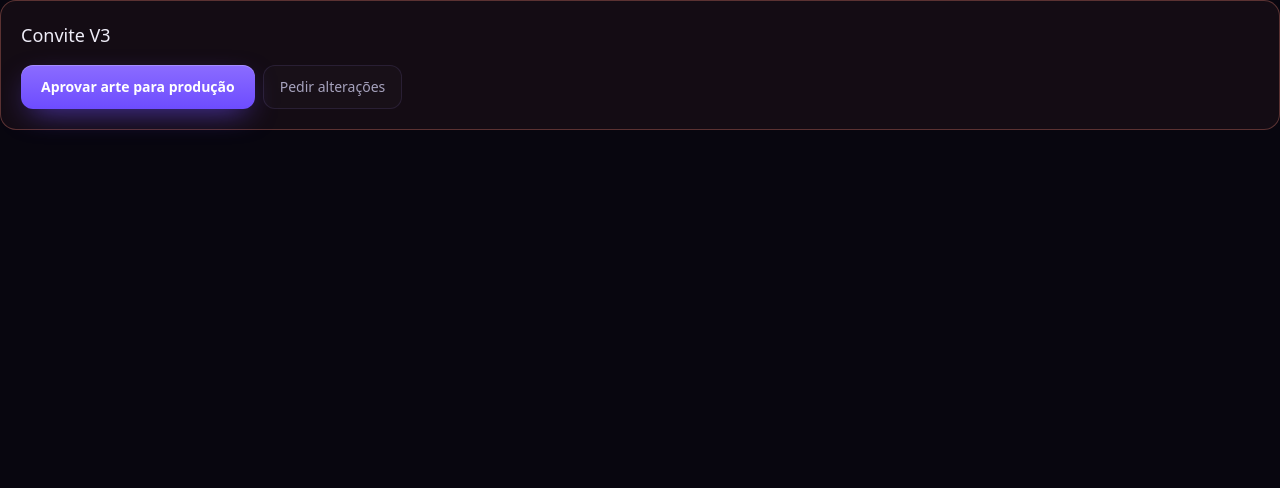
ApprovalCard — arte para produção › sem impressão, o aviso fala da arte final
Click the button "Aprovar arte para produção".
click(138, 87)  # box [21,65,255,109]
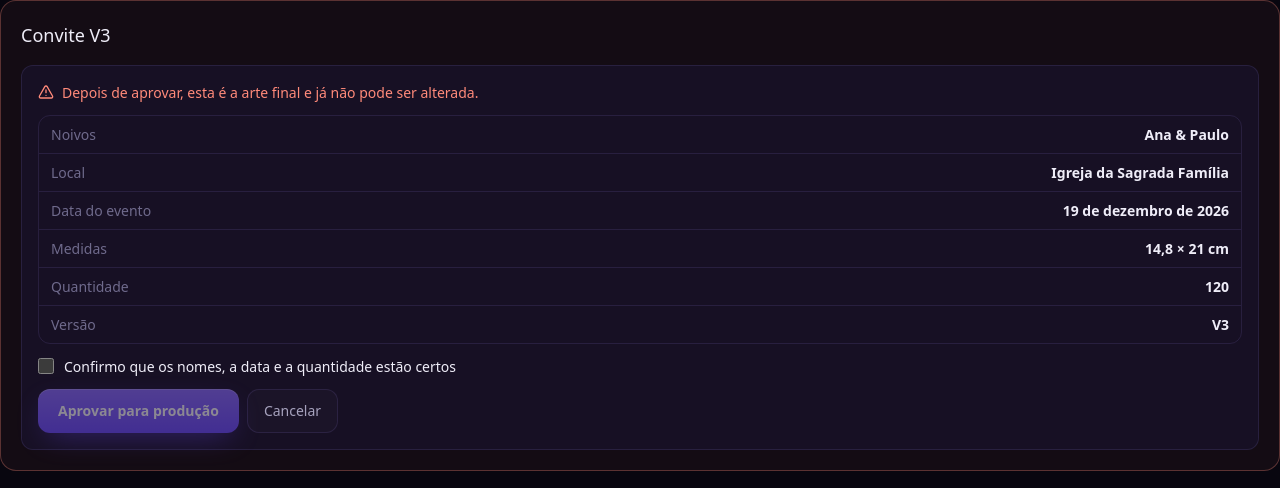
expect the text "esta é a arte final e já não pode ser alterada" is shown: met, box [62,83,478,102]
